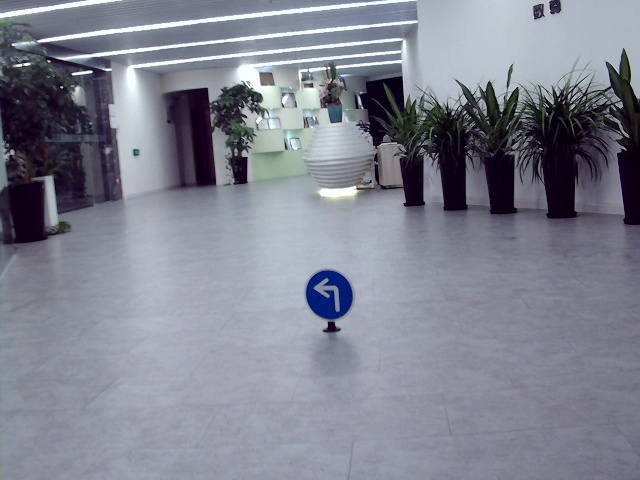turn_left: (310, 275, 345, 311)
